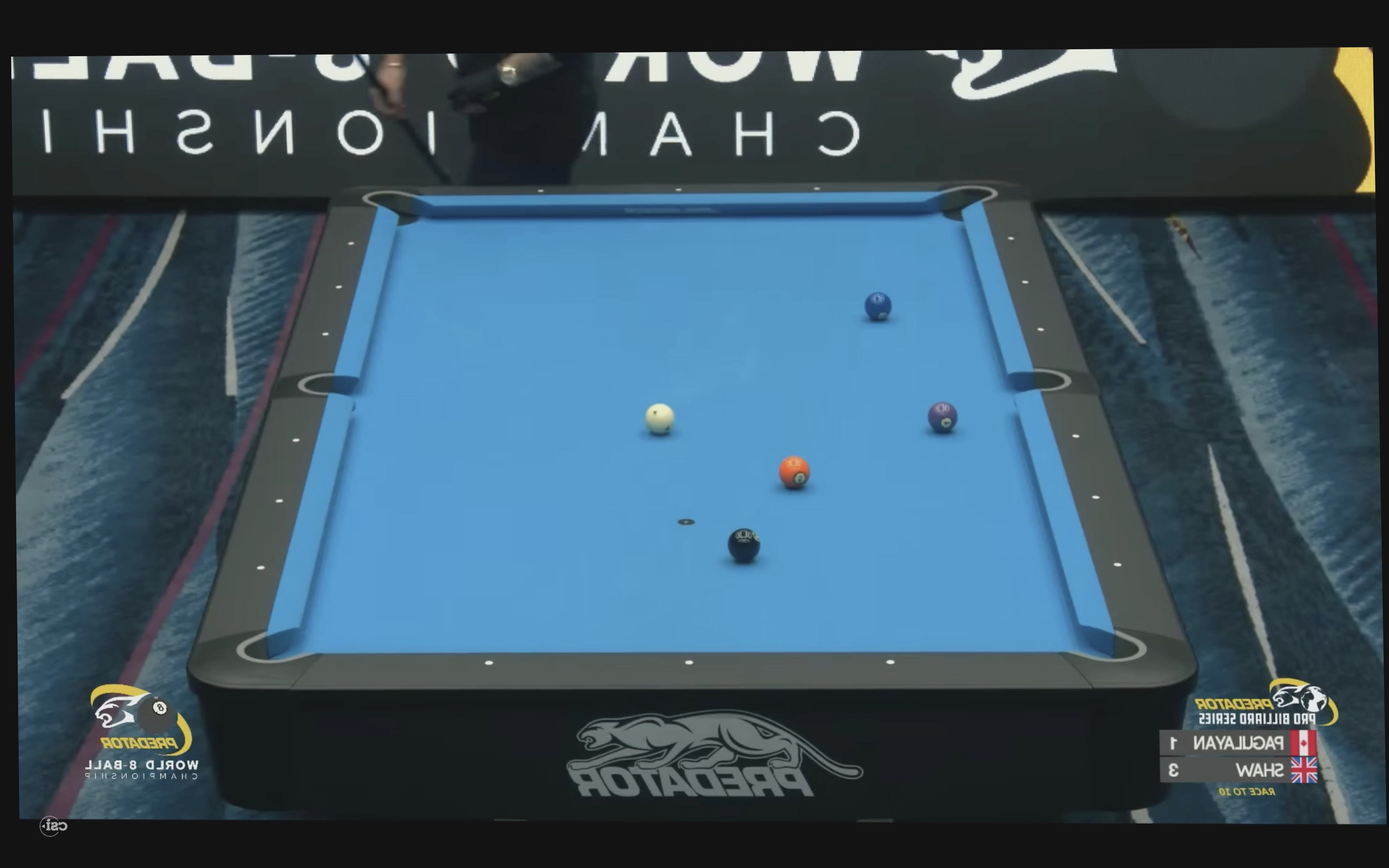Black: (886, 659, 895, 665), (684, 660, 694, 665), (484, 660, 493, 665), (275, 498, 284, 503), (257, 565, 265, 570), (292, 438, 300, 443), (1113, 563, 1122, 567), (1007, 237, 1015, 241), (1092, 495, 1100, 499), (322, 332, 329, 336), (335, 285, 342, 289), (347, 242, 354, 246), (537, 189, 544, 193), (675, 188, 682, 192), (1022, 280, 1029, 284), (1037, 328, 1044, 332), (1072, 434, 1079, 438), (814, 187, 820, 191)
Cue: (779, 456, 810, 488), (927, 402, 958, 432), (864, 291, 892, 320)
Solid: (727, 528, 760, 562)
Stripe: (645, 403, 674, 434)
